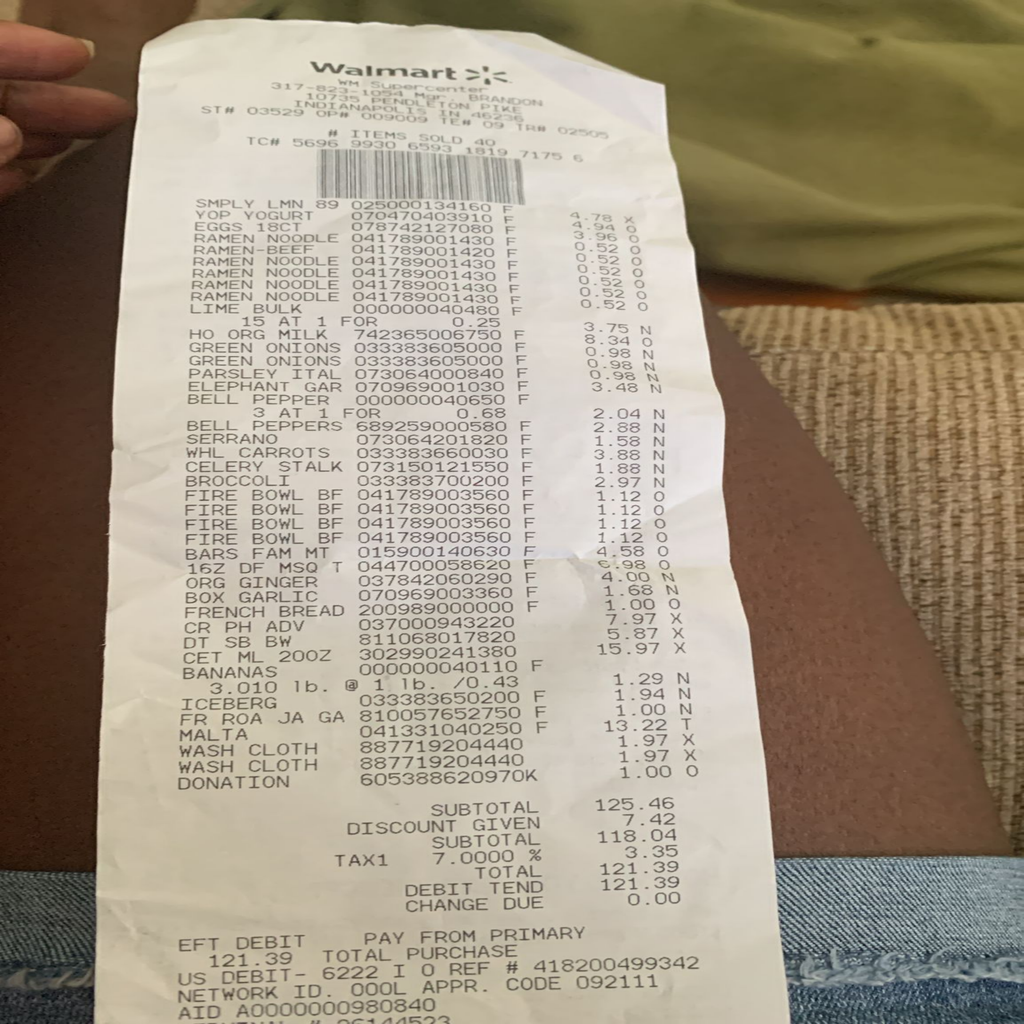recipt: (96, 15, 787, 1016)
